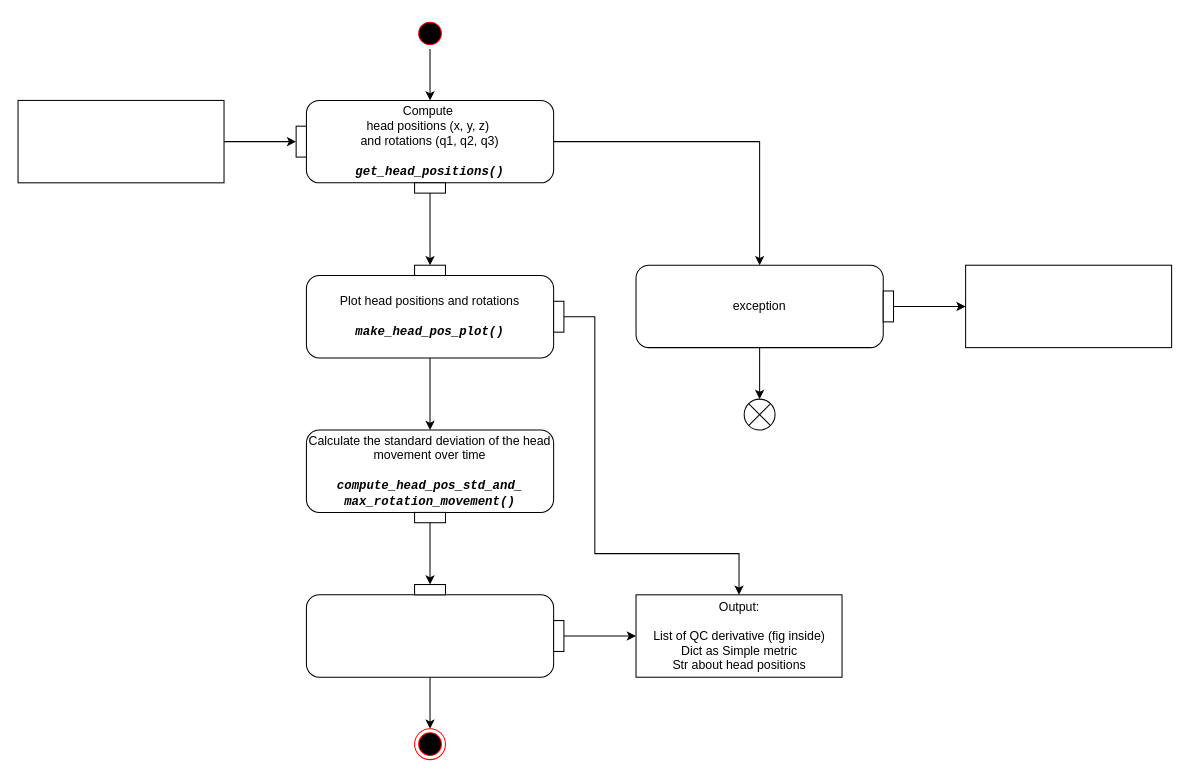
This 1190x778 diagram has some shape labels left out. Each missing label, with the centre of its shape:
"Input: Raw data Config parameters" belongs at point 120,141.
"Output: Empty list Empty dict as Simple metric Str about no head positions" belongs at point 1068,306.
"Save std of head positions and rotations in dictionary make_simple_metric_head()" belongs at point 429,635.
